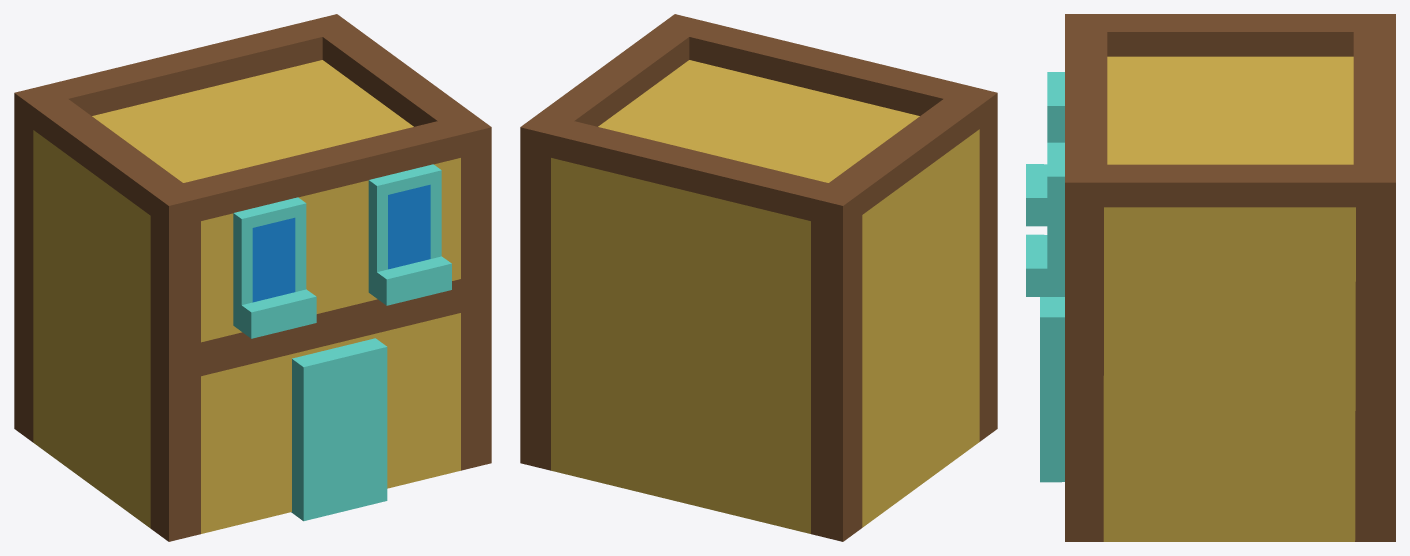
The model's file is shop02_s01.FBX.
3 renders of one model, left to right at view 1: azimuth 30°, elevation 25°; view 2: azimuth 150°, elevation 25°; view 3: azimuth 270°, elevation 25°, orthographic. The views are drawn at different scales.
Visible parts, largest first — view 1: shop02_s01; view 2: shop02_s01; view 3: shop02_s01.
Part boxes in pixels (box(x1,y1,x2,y2)): shop02_s01: box(14, 14, 491, 541); shop02_s01: box(520, 14, 997, 541); shop02_s01: box(1026, 14, 1395, 541).
Size of the model in its own units: 414 by 384 by 413.
1 material, 1 textured.
